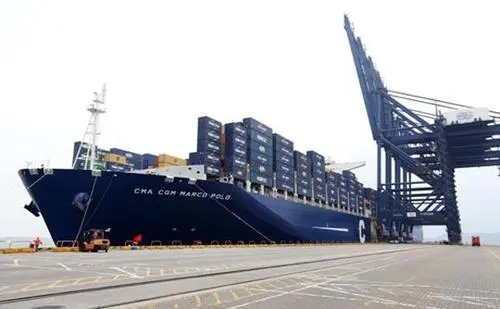Cargoship: (16, 80, 392, 244)
